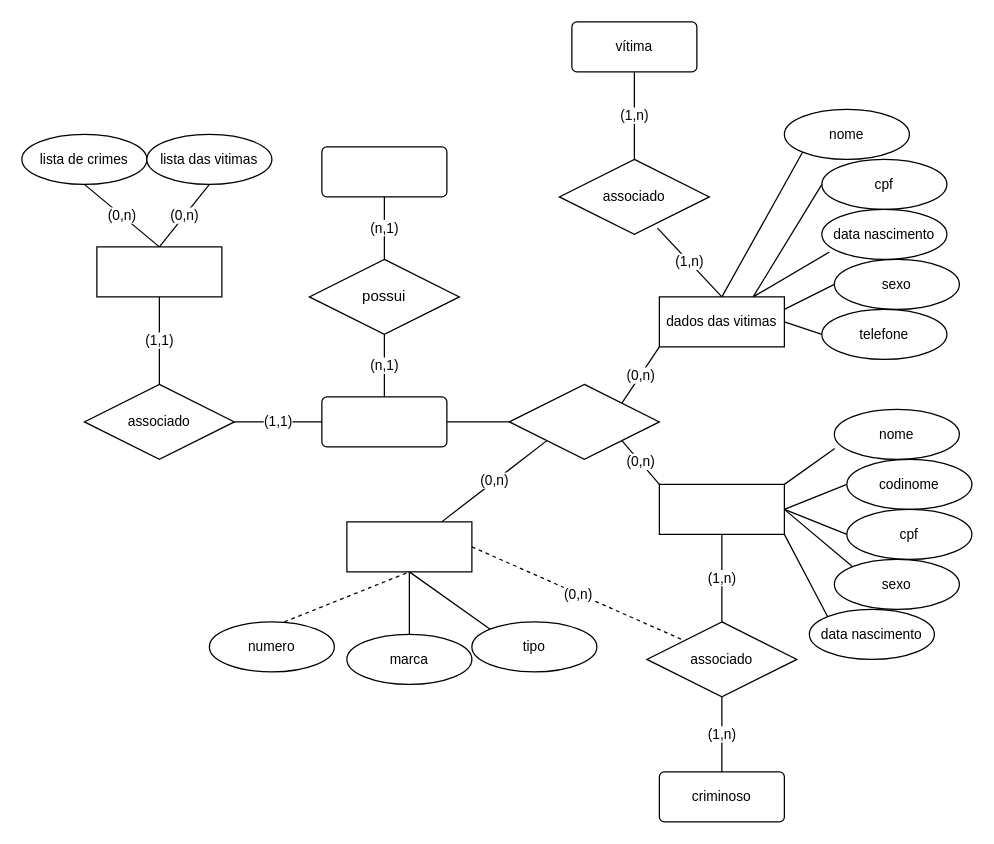
Image size: 994x844. Some labels were removed from this diagram. The box of each missing label's shape, as (x1, y1, x2, y2) in pixels:
armas: (346, 521, 472, 572)
banco de dados: (321, 396, 447, 447)
dados dos criminosos: (658, 483, 784, 534)
Delegacia: (321, 146, 447, 197)
registra: (508, 383, 659, 459)
sistema: (96, 246, 222, 297)
